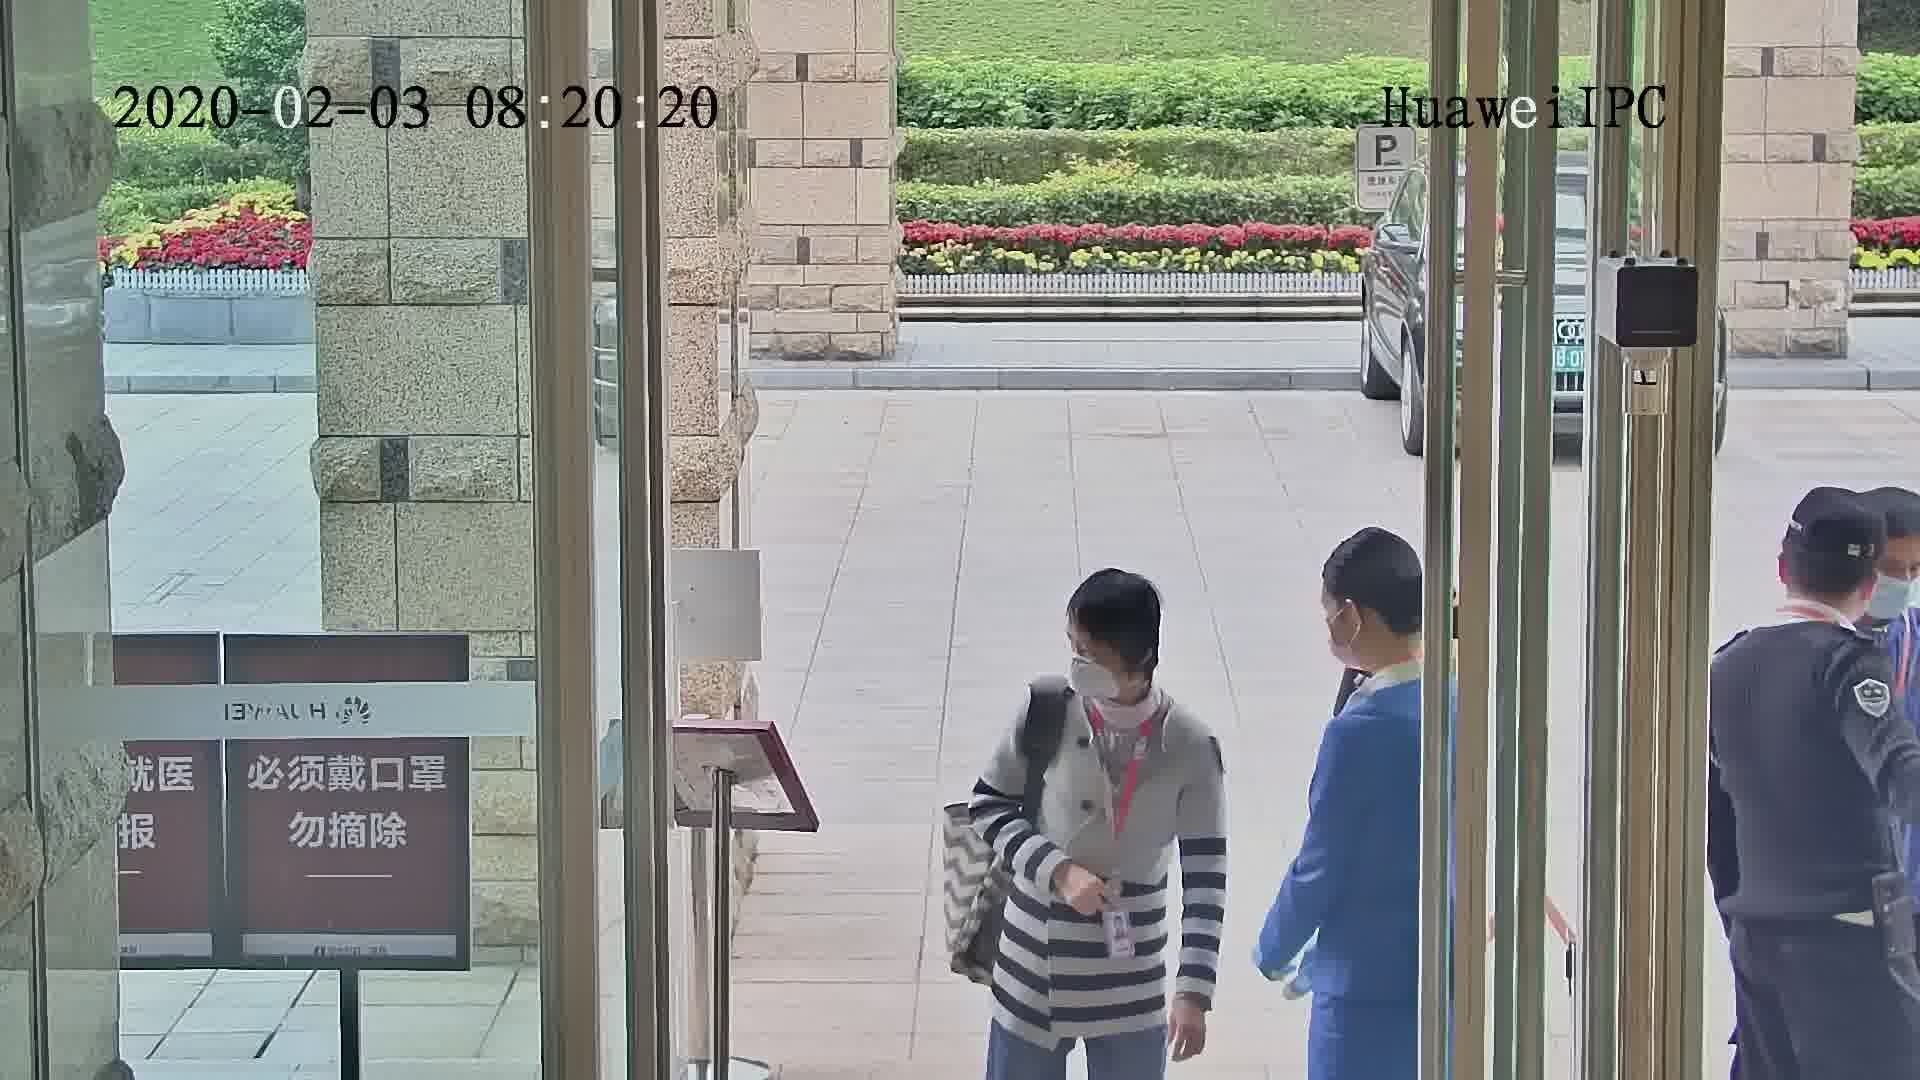face: (1063, 622, 1131, 713), (1858, 535, 1916, 631)
mask: (1858, 569, 1918, 620), (1067, 653, 1125, 704)
person: (1007, 565, 1224, 791), (1710, 485, 1904, 720), (1305, 520, 1431, 782)
